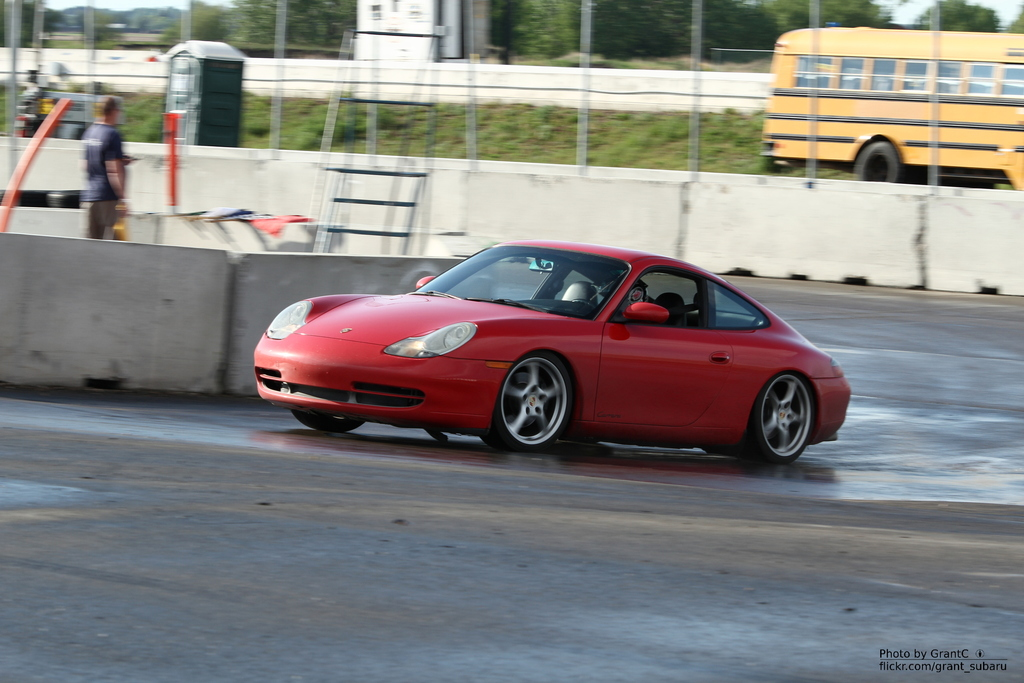Bus: (761, 25, 1024, 190)
